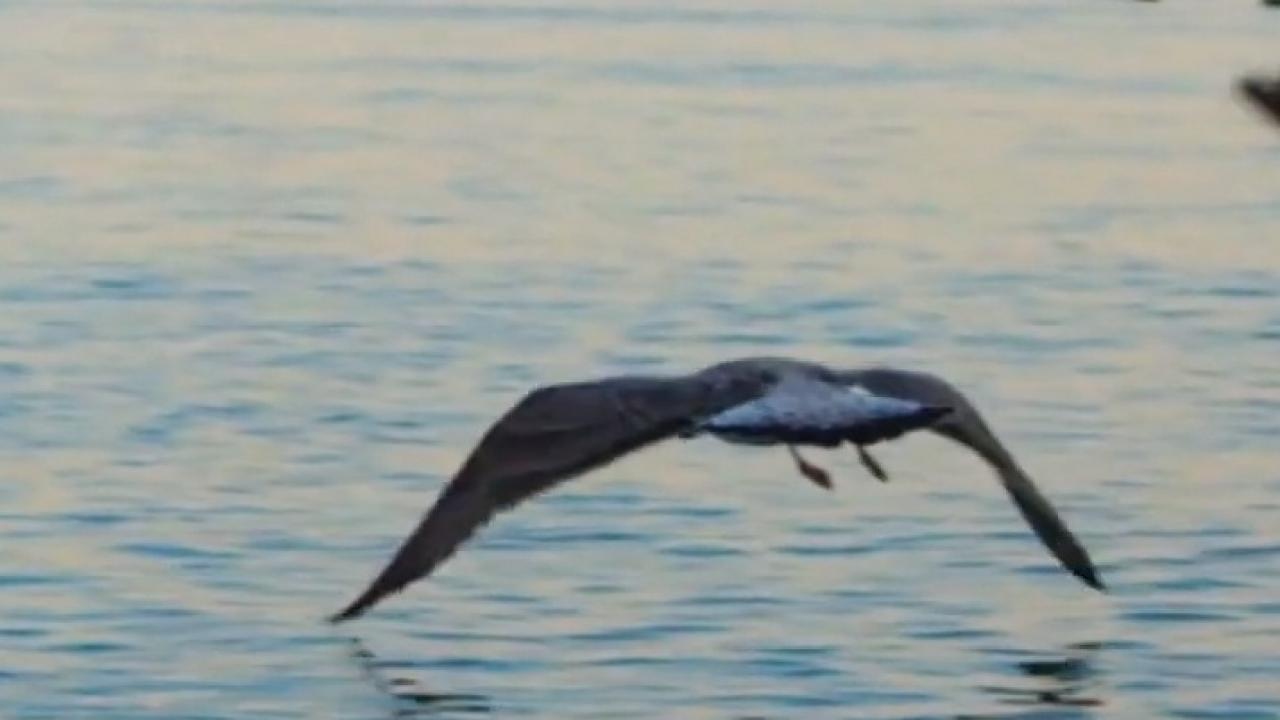Bird: (319, 344, 1119, 635)
